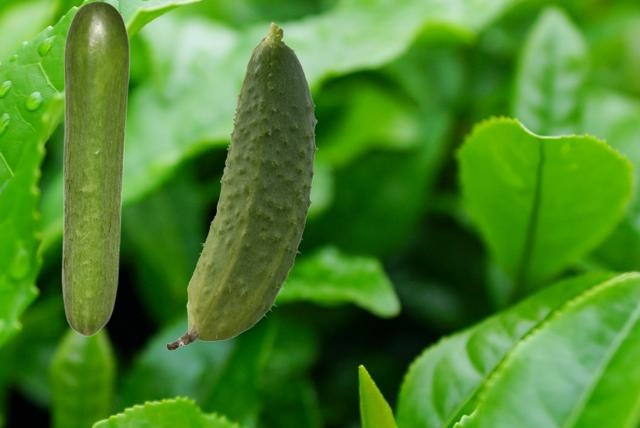cucumber: (166, 22, 317, 349), (61, 0, 129, 336)
